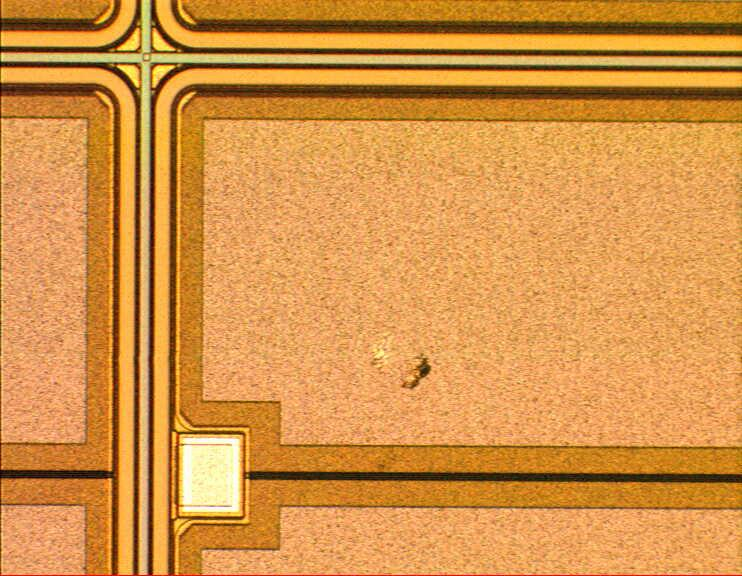SCRATCH: (335, 314, 455, 409)
